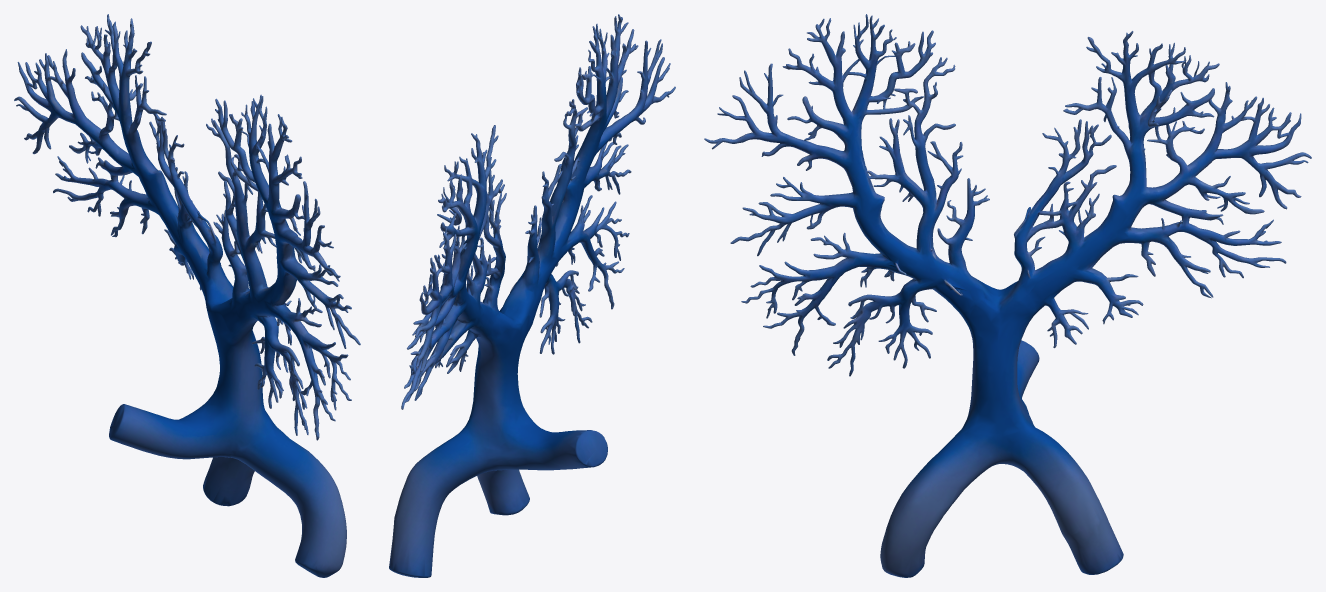
File: portal-vein.glb
3 views of the same model, side by side, from view 1: azimuth 30°, elevation 25°; view 2: azimuth 150°, elevation 25°; view 3: azimuth 270°, elevation 25° (orthographic). The views are drawn at different scales.
Parts seen in each view (by area): view 1: tripo_node_9885efc4-3143-4bf3-9cba-6ebc4df4c63b; view 2: tripo_node_9885efc4-3143-4bf3-9cba-6ebc4df4c63b; view 3: tripo_node_9885efc4-3143-4bf3-9cba-6ebc4df4c63b.
Part boxes in pixels (left/top/right/bottom): tripo_node_9885efc4-3143-4bf3-9cba-6ebc4df4c63b: left=14, top=14, right=360, bottom=577; tripo_node_9885efc4-3143-4bf3-9cba-6ebc4df4c63b: left=389, top=14, right=675, bottom=577; tripo_node_9885efc4-3143-4bf3-9cba-6ebc4df4c63b: left=704, top=14, right=1311, bottom=577.
Size of the model in its own units: 0.3502 by 0.9474 by 0.9998.
1 material, 1 textured.
